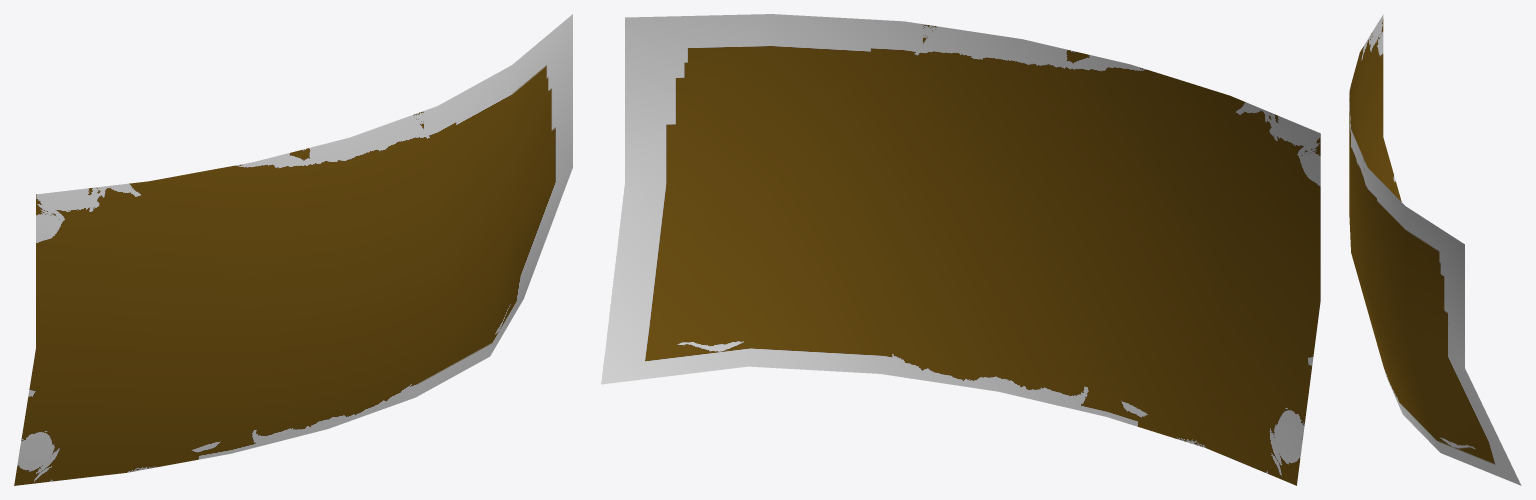
File: orange_cloud.dae
3 renders of one model, left to right at view 1: azimuth 30°, elevation 25°; view 2: azimuth 150°, elevation 25°; view 3: azimuth 270°, elevation 25°, orthographic. The views are drawn at different scales.
Visible parts, largest first — view 1: Plane004; view 2: Plane004; view 3: Plane004.
Boxes of the visible parts, x1,y1,x2,y2 form: Plane004: [14, 14, 572, 485]; Plane004: [601, 14, 1320, 485]; Plane004: [1349, 14, 1521, 485].
Size of the model in its own units: 160 by 50.52 by 79.91.
Materials: 1 (1 with a texture image).
